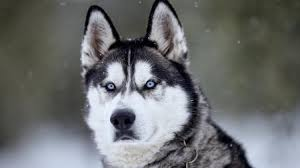Bulldog: (55, 6, 249, 154)
